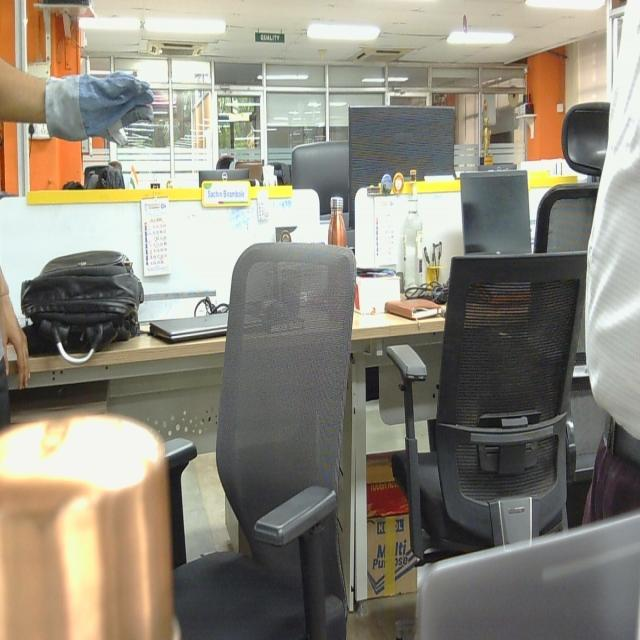Gloves-Detection: (42, 63, 156, 157)
